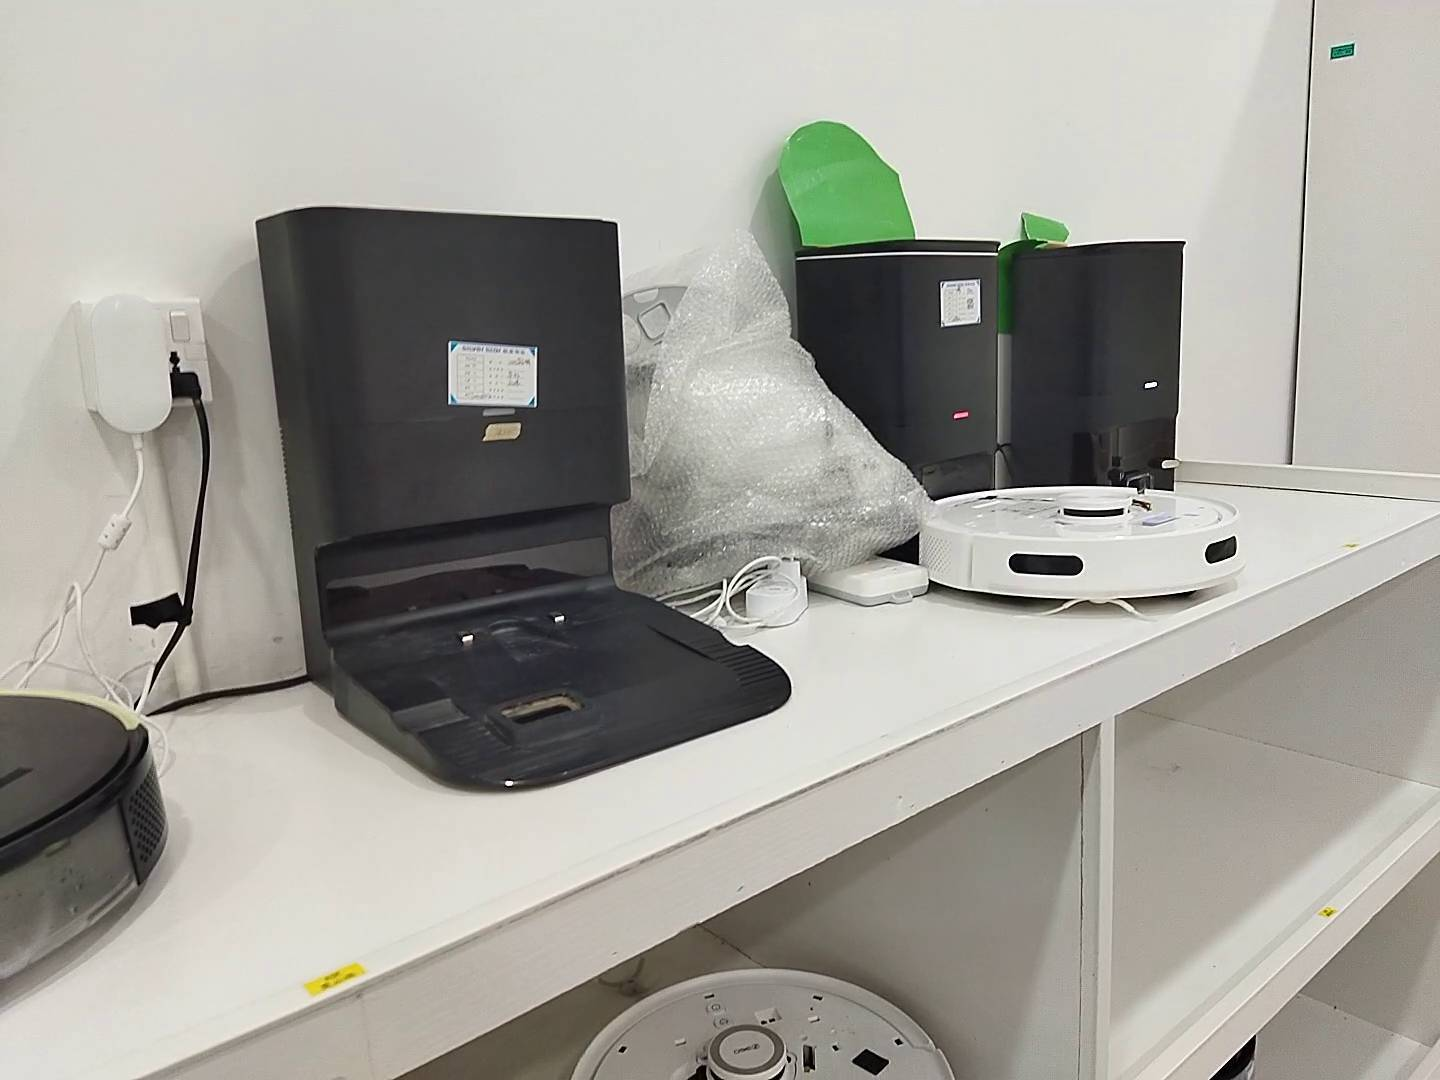dust collecting barrel: (257, 205, 791, 795), (791, 239, 1006, 496), (1013, 241, 1187, 492)
